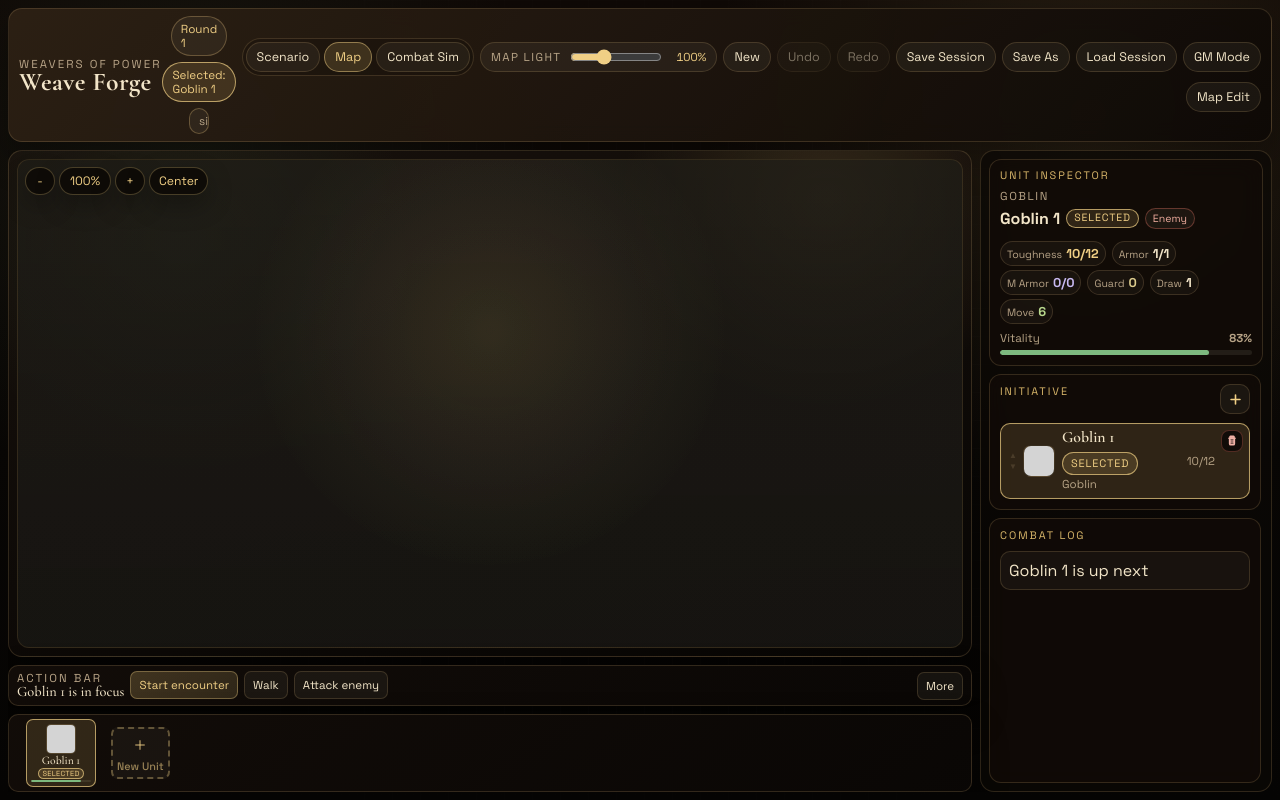
Scenario: App › auto-marks a qualifying untested or retest benchmark batch as simulated
Click the button "Combat Sim": (423, 57) [376,42,470,72]
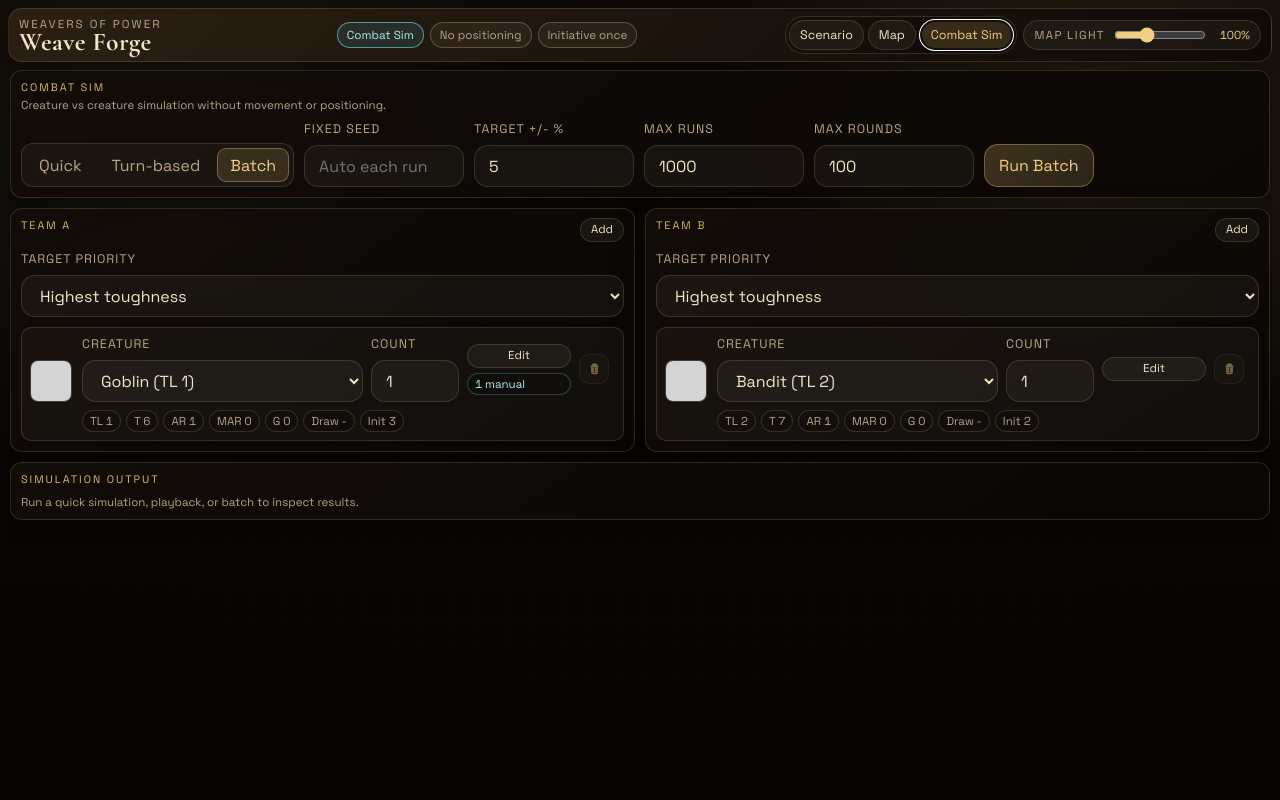
Select "Bandit (TL 2)" in the dropdown labelled "Creature" next to "1 manual": (222, 381) [82,360,363,402]
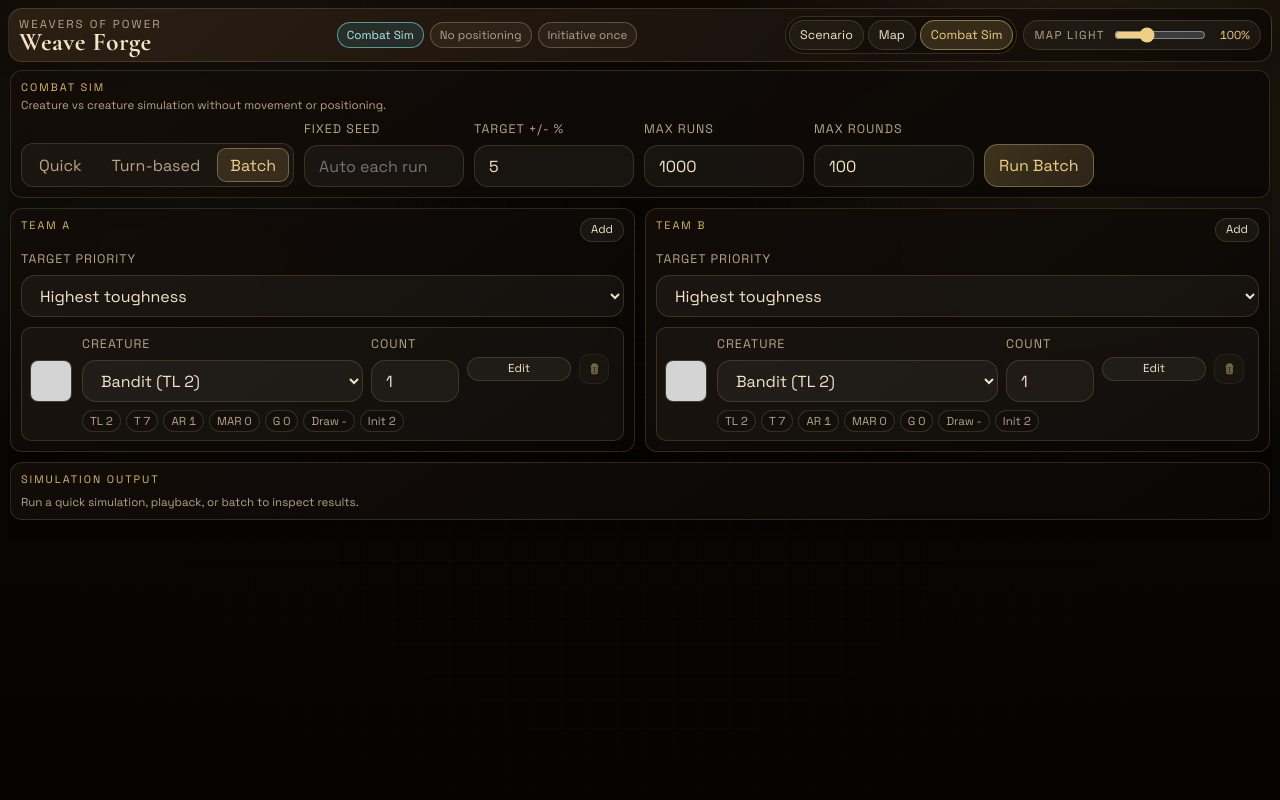
Select "Goblin (TL 1)" in the dropdown labelled "Creature" below "Team B": (858, 381) [717,360,998,402]
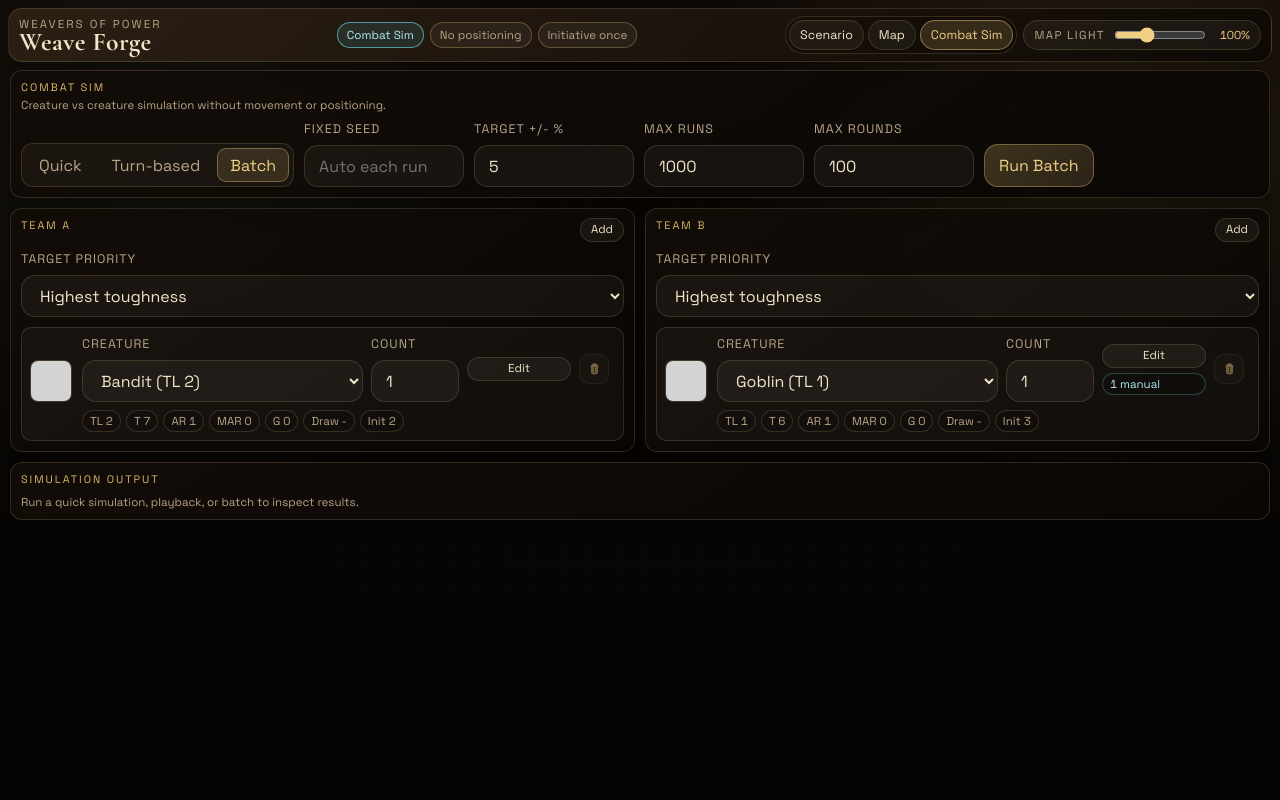
Replace the text in the number field labelled "Count" next to "1 manual" with "2": (1050, 381) [1006,360,1094,402]
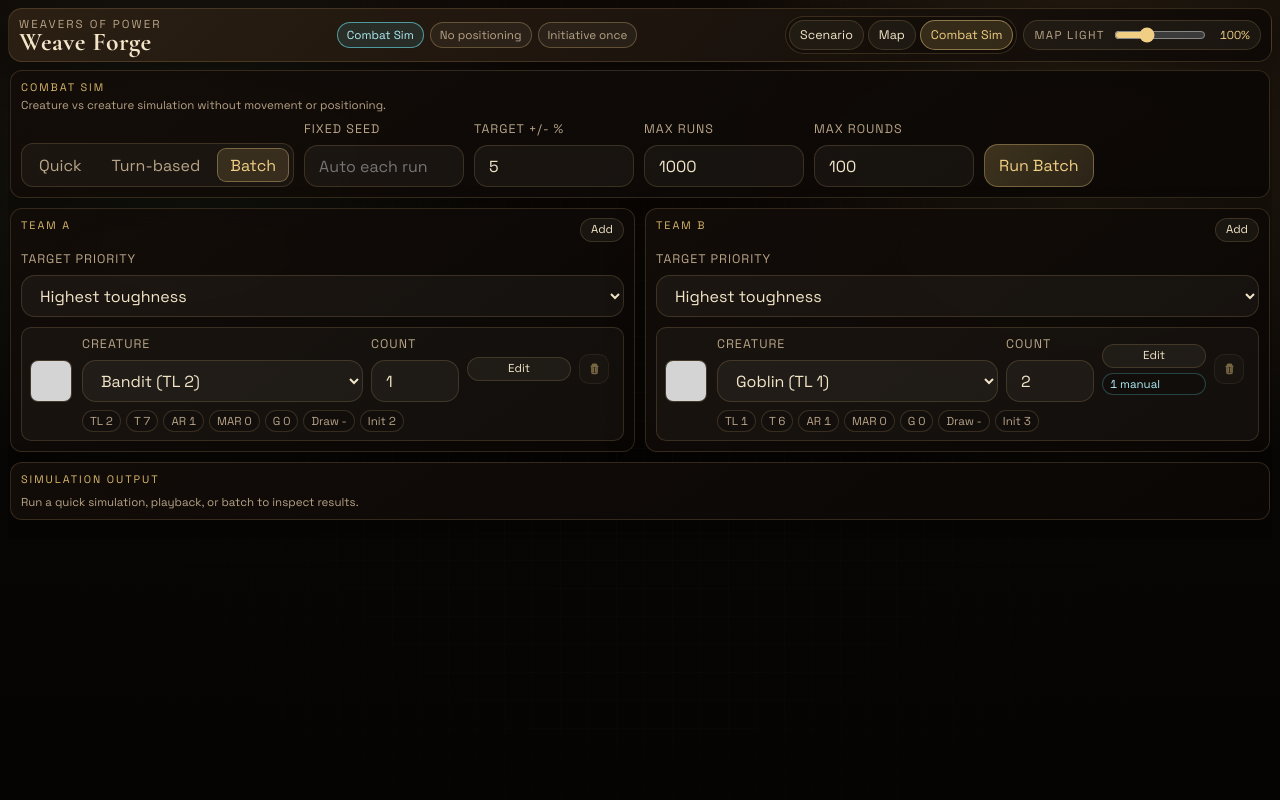
Click the button "Run Batch": (1039, 166) [984,144,1094,187]
(page scrolled)
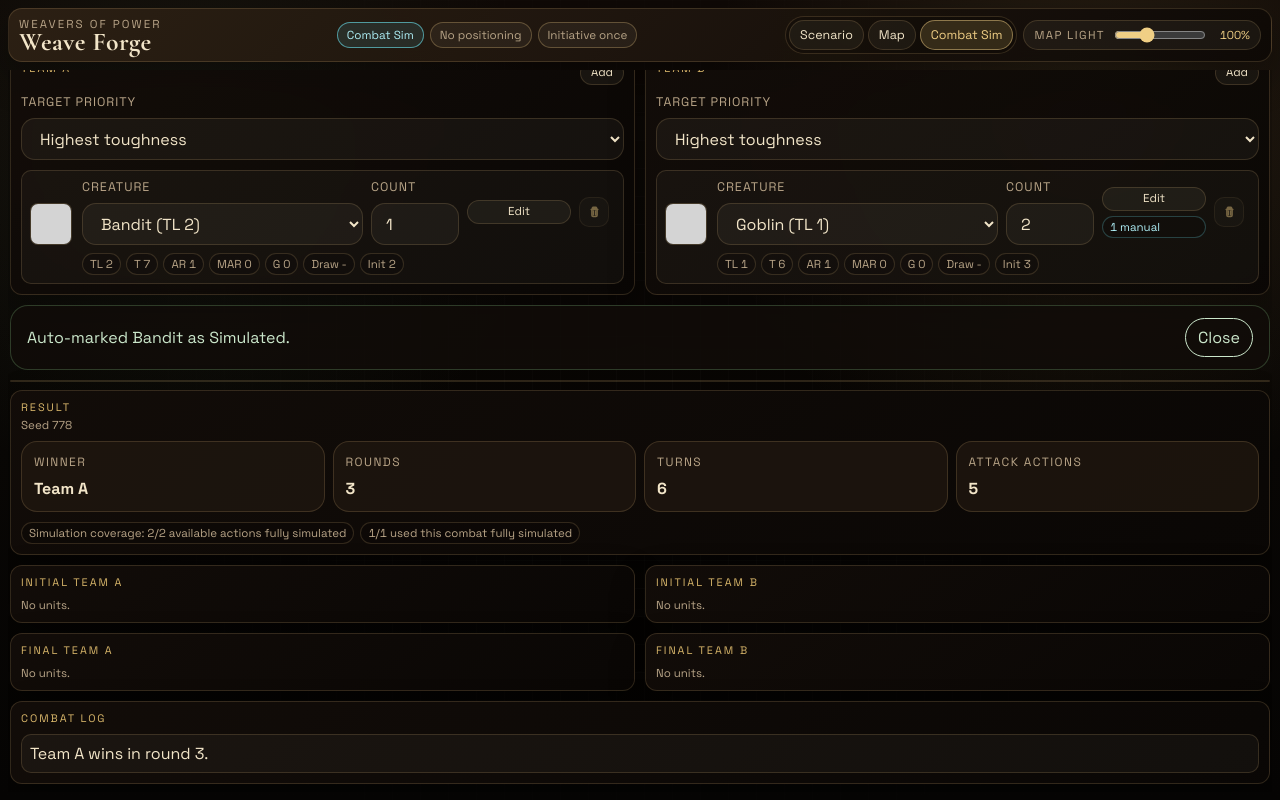
Now the text "Team A wins in round 3." is shown, box [21,734,1259,773]
